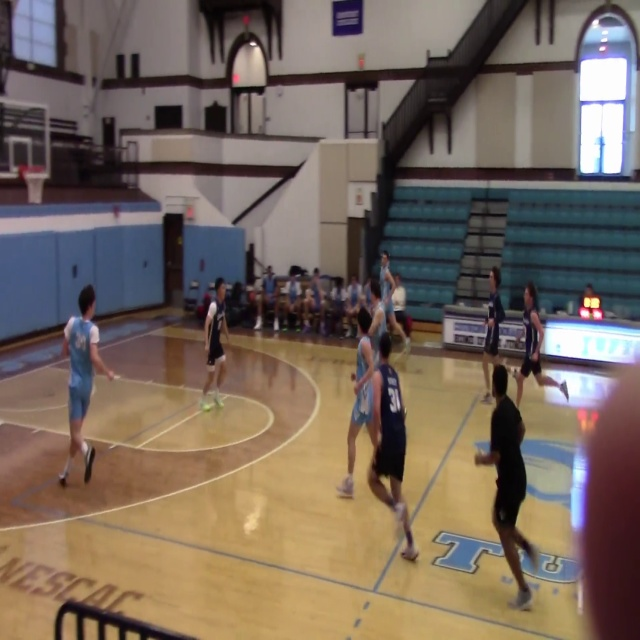Basketball: (201, 402, 213, 412)
